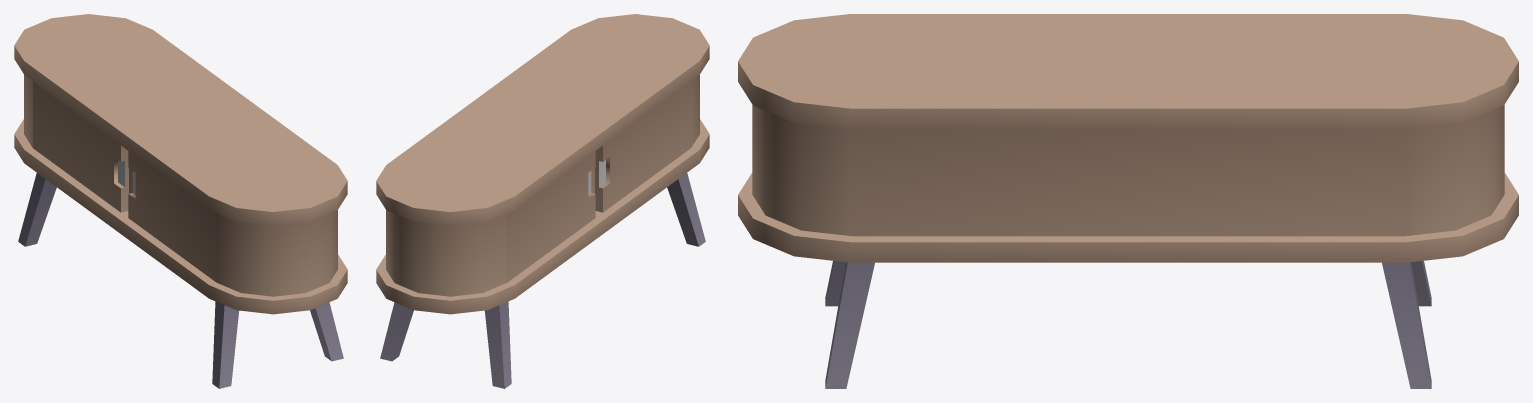
The model's file is sidetable-rounded-wide.glb.
The picture shows the model from 3 angles, left to right: view 1: azimuth 30°, elevation 25°; view 2: azimuth 150°, elevation 25°; view 3: azimuth 270°, elevation 25°; orthographic projection. The views are drawn at different scales.
Parts seen in each view (by area): view 1: sidetable-rounded-wide; view 2: sidetable-rounded-wide; view 3: sidetable-rounded-wide.
Part boxes in pixels (x1,y1,x2,y2): sidetable-rounded-wide: [14, 14, 347, 388]; sidetable-rounded-wide: [376, 14, 709, 388]; sidetable-rounded-wide: [738, 14, 1518, 388].
Bounding box in the file's own units: 0.4 × 0.556 × 1.4.
